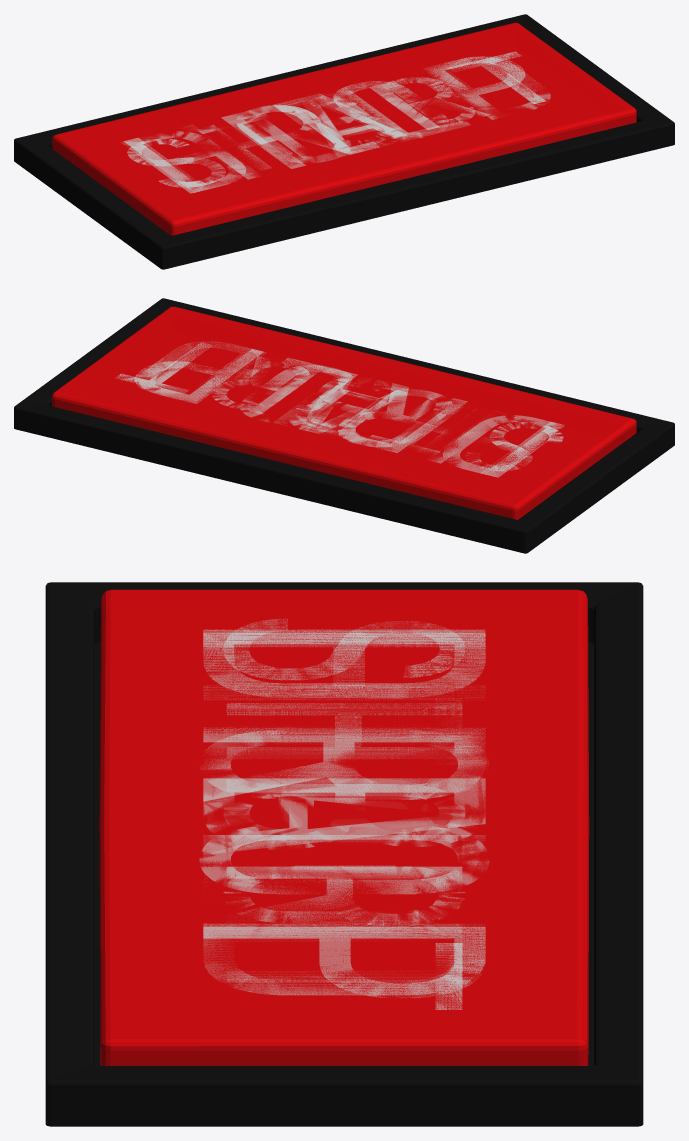
File: buttons.glb
3 renders of one model, top to bottom at view 1: azimuth 30°, elevation 25°; view 2: azimuth 150°, elevation 25°; view 3: azimuth 270°, elevation 25°, orthographic. The views are drawn at different scales.
Visible parts, largest first — view 1: button-drop, button-hold, button-start, button-shoot, button-A, button-B; view 2: button-drop, button-hold, button-A, button-start, button-B, button-shoot, button-empty; view 3: button-drop, button-hold, button-start, button-B, button-shoot, button-A, button-empty.
Boxes of the visible parts, x1,y1,x2,y2 form: button-drop: [14, 14, 674, 269]; button-hold: [52, 23, 636, 235]; button-start: [58, 23, 631, 220]; button-shoot: [66, 28, 620, 214]; button-A: [59, 23, 631, 219]; button-B: [68, 25, 628, 214]; button-drop: [14, 298, 674, 553]; button-hold: [52, 307, 636, 519]; button-A: [60, 308, 630, 503]; button-start: [56, 307, 629, 503]; button-B: [62, 310, 626, 502]; button-shoot: [67, 311, 624, 497]; button-empty: [59, 363, 584, 499]; button-drop: [45, 582, 643, 1126]; button-hold: [99, 590, 588, 1065]; button-start: [109, 590, 578, 1039]; button-B: [109, 590, 577, 1039]; button-shoot: [110, 591, 576, 1036]; button-A: [109, 590, 577, 1039]; button-empty: [144, 592, 577, 1036].
Bounding box in the file's own units: 0.121 × 0.00696 × 0.061.
